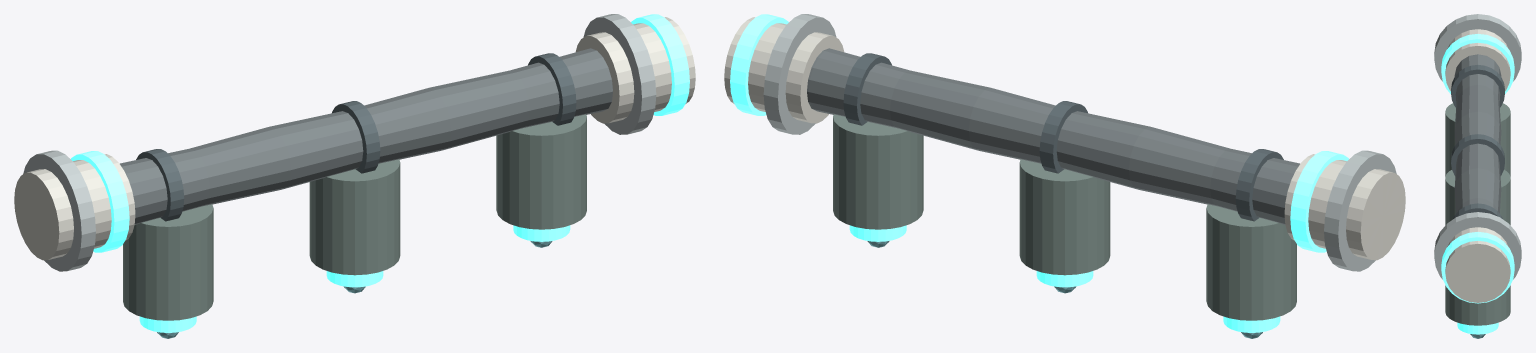
The model's file is s7-i05-dripline-0p5m.glb.
3 renders of one model, left to right at view 1: azimuth 30°, elevation 25°; view 2: azimuth 150°, elevation 25°; view 3: azimuth 270°, elevation 25°, orthographic. The views are drawn at different scales.
Parts seen in each view (by area): view 1: 000_actual_curved_hose_swept_3d, 013_drip_junction_1, 016_drip_junction_2, 010_drip_junction_0, 001_end_0_sealing_socket, 004_end_1_sealing_socket, 003_end_0_locking_collar, 006_end_1_locking_collar, 002_end_0_cyan_snap_seal, 005_end_1_cyan_snap_seal, 008_rib_banding_1, 009_rib_banding_2 (+4 smaller); view 2: 000_actual_curved_hose_swept_3d, 013_drip_junction_1, 016_drip_junction_2, 010_drip_junction_0, 001_end_0_sealing_socket, 004_end_1_sealing_socket, 003_end_0_locking_collar, 006_end_1_locking_collar, 002_end_0_cyan_snap_seal, 005_end_1_cyan_snap_seal, 008_rib_banding_1, 009_rib_banding_2 (+4 smaller); view 3: 000_actual_curved_hose_swept_3d, 004_end_1_sealing_socket, 003_end_0_locking_collar, 006_end_1_locking_collar, 016_drip_junction_2, 001_end_0_sealing_socket, 010_drip_junction_0, 005_end_1_cyan_snap_seal, 013_drip_junction_1, 002_end_0_cyan_snap_seal, 008_rib_banding_1, 007_rib_banding_0 (+2 smaller).
Part boxes in pixels (box(x1,y1,x2,y2)): 000_actual_curved_hose_swept_3d: box(120, 48, 612, 224); 013_drip_junction_1: box(309, 159, 400, 275); 016_drip_junction_2: box(496, 114, 586, 229); 010_drip_junction_0: box(123, 204, 213, 320); 001_end_0_sealing_socket: box(14, 154, 135, 260); 004_end_1_sealing_socket: box(575, 17, 695, 123); 003_end_0_locking_collar: box(23, 150, 95, 271); 006_end_1_locking_collar: box(583, 14, 656, 134); 002_end_0_cyan_snap_seal: box(71, 151, 129, 252); 005_end_1_cyan_snap_seal: box(631, 14, 689, 115); 008_rib_banding_1: box(332, 101, 380, 173); 009_rib_banding_2: box(528, 53, 576, 125); 000_actual_curved_hose_swept_3d: box(807, 48, 1299, 224); 013_drip_junction_1: box(1019, 159, 1110, 275); 016_drip_junction_2: box(833, 114, 923, 229); 010_drip_junction_0: box(1206, 204, 1296, 320); 001_end_0_sealing_socket: box(1284, 154, 1405, 260); 004_end_1_sealing_socket: box(724, 17, 844, 123); 003_end_0_locking_collar: box(1324, 150, 1396, 271); 006_end_1_locking_collar: box(763, 14, 836, 134); 002_end_0_cyan_snap_seal: box(1290, 151, 1348, 252); 005_end_1_cyan_snap_seal: box(730, 14, 788, 115); 008_rib_banding_1: box(1039, 101, 1087, 173); 009_rib_banding_2: box(843, 53, 891, 125); 000_actual_curved_hose_swept_3d: box(1454, 54, 1501, 213); 004_end_1_sealing_socket: box(1445, 227, 1510, 302); 003_end_0_locking_collar: box(1434, 14, 1521, 81); 006_end_1_locking_collar: box(1434, 212, 1521, 279); 016_drip_junction_2: box(1445, 285, 1510, 325); 001_end_0_sealing_socket: box(1445, 29, 1510, 91); 010_drip_junction_0: box(1445, 103, 1510, 176); 005_end_1_cyan_snap_seal: box(1441, 232, 1514, 303); 013_drip_junction_1: box(1445, 170, 1510, 224); 002_end_0_cyan_snap_seal: box(1441, 34, 1514, 93); 008_rib_banding_1: box(1451, 134, 1504, 175); 007_rib_banding_0: box(1451, 65, 1504, 107).
Bounding box in the file's own units: 0.568 × 0.1778 × 0.0935.
